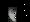person: (9, 8, 18, 22)
